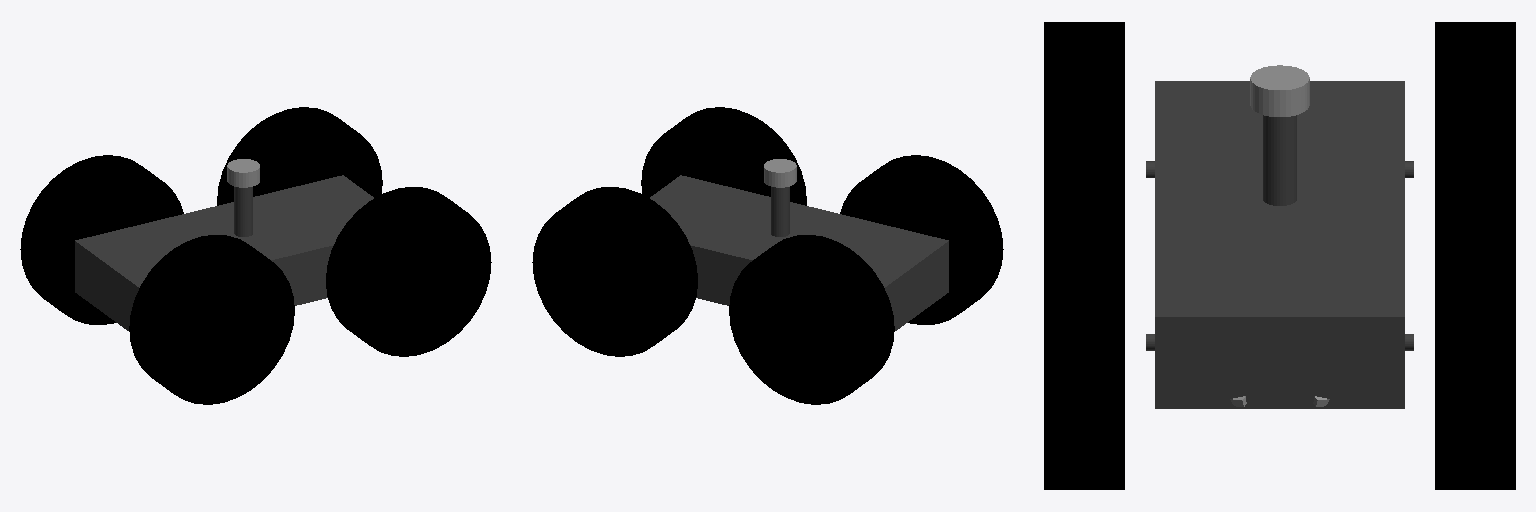
robot.urdf — robot:
<?xml version="1.0" ?>
<robot name="robot">

    <webots>
        <device reference="lidar" type="lidar">
            <ros>
                <enabled>true</enabled>
                <updateRate>10</updateRate>
                <topicName>/scan</topicName>
                <alwaysOn>true</alwaysOn>
                <frameName>lidar</frameName>
            </ros>
        </device>

        <plugin type="cibnor_sim.webots_robot_driver.RobotDriver"/>
    </webots>

    <!-- Colors -->
    <material name="light_gray">
        <color rgba="0.6 0.6 0.6 1.0"/>
    </material>

    <material name="gray">
        <color rgba="0.3 0.3 0.3 1.0"/>
    </material>

    <material name="black">
        <color rgba="0.0 0.0 0.0 1.0"/>
    </material>

    <!-- Robot body -->
    <link name="base_link">
        <visual>
            <geometry>
                <box size="0.656 0.294 0.12"/>
            </geometry>
            <material name="gray"/>
        </visual>
        <collision>
            <geometry>
                <box size="0.656 0.294 0.12"/>
            </geometry>
        </collision>
    </link>

    <!--Lidar-->
    <joint name="base_link_to_support_Lidar" type="fixed">
        <parent link="base_link"/>
        <child link="support_Lidar"/>
        <origin xyz="0 0 0.11" rpy="0 0 0"/>
    </joint>

    <link name="support_Lidar">
        <visual>
            <origin xyz="0 0 0" rpy="0 0 0"/>
            <geometry>
                <cylinder radius="0.02" length="0.15"/>
            </geometry>
            <material name="gray"/>
        </visual>
        <collision>
            <origin xyz="0 0 0" rpy="0 0 0"/>
            <geometry>
                <cylinder radius="0.02" length="0.15"/>
            </geometry>
        </collision>
    </link>

    <joint name="support_Lidar_to_lidar" type="fixed">
        <parent link="support_Lidar"/>
        <child link="lidar"/>
        <origin xyz="0 0 0.09" rpy="0 0 0"/>
    </joint>

    <link name="lidar">
        <visual>
            <origin xyz="0 0 0" rpy="0 0 0"/>
            <geometry>
                <cylinder radius="0.035" length="0.035"/>
            </geometry>
            <material name="light_gray"/>
        </visual>
        <collision>
            <origin xyz="0 0 0" rpy="0 0 0"/>
            <geometry>
                <cylinder radius="0.035" length="0.035"/>
            </geometry>
        </collision>
    </link>

    <!--Hinges-->
    <joint name="base_link_to_hinge_BL" type="fixed">
        <parent link="base_link"/>
        <child link="hinge_BL"/>
        <origin xyz="-0.21 0.13 0" rpy="1.5708006 0.0000019 -3.1415908"/>
    </joint>

    <link name="hinge_BL">
        <visual>
            <origin xyz="0 0 0" rpy="0 0 0"/>
            <geometry>
                <cylinder radius="0.01" length="0.055"/>
            </geometry>
            <material name="gray"/>
        </visual>
        <collision>
            <origin xyz="0 0 0" rpy="0 0 0"/>
            <geometry>
                <cylinder radius="0.01" length="0.055"/>
            </geometry>
        </collision>
    </link>

    <joint name="base_link_to_hinge_FL" type="fixed">
        <parent link="base_link"/>
        <child link="hinge_FL"/>
        <origin xyz="0.27 0.13 0" rpy="1.5708006 0.0000019 -3.1415908"/>
    </joint>

    <link name="hinge_FL">
        <visual>
            <origin xyz="0 0 0" rpy="0 0 0"/>
            <geometry>
                <cylinder radius="0.01" length="0.055"/>
            </geometry>
            <material name="gray"/>
        </visual>
        <collision>
            <origin xyz="0 0 0" rpy="0 0 0"/>
            <geometry>
                <cylinder radius="0.01" length="0.055"/>
            </geometry>
        </collision>
    </link>

    <joint name="base_link_to_hinge_BR" type="fixed">
        <parent link="base_link"/>
        <child link="hinge_BR"/>
        <origin xyz="-0.21 -0.13 0" rpy="1.5708006 0.0000019 -3.1415908"/>
    </joint>

    <link name="hinge_BR">
        <visual>
            <origin xyz="0 0 0" rpy="0 0 0"/>
            <geometry>
                <cylinder radius="0.01" length="0.055"/>
            </geometry>
            <material name="gray"/>
        </visual>
        <collision>
            <origin xyz="0 0 0" rpy="0 0 0"/>
            <geometry>
                <cylinder radius="0.01" length="0.055"/>
            </geometry>
        </collision>
    </link>

    <joint name="base_link_to_hinge_FR" type="fixed">
        <parent link="base_link"/>
        <child link="hinge_FR"/>
        <origin xyz="0.27 -0.13 0" rpy="1.5708006 0.0000019 -3.1415908"/>
    </joint>

    <link name="hinge_FR">
        <visual>
            <origin xyz="0 0 0" rpy="0 0 0"/>
            <geometry>
                <cylinder radius="0.01" length="0.055"/>
            </geometry>
            <material name="gray"/>
        </visual>
        <collision>
            <origin xyz="0 0 0" rpy="0 0 0"/>
            <geometry>
                <cylinder radius="0.01" length="0.055"/>
            </geometry>
        </collision>
    </link>

    <!-- Front-Right Wheel -->
    <joint name="motor_FR" type="continuous">
        <parent link="hinge_FR"/>
        <child link="wheel_FR"/>
        <axis xyz="0 0 -1"/>
        <limit effort="10" velocity="10"/>
        <origin xyz="0 0 -0.1" rpy="0 0 0"/>
    </joint>

    <link name="wheel_FR">
        <visual>
            <origin xyz="0 0 0" rpy="0 0 0"/>
            <geometry>
                <cylinder radius="0.175" length="0.095"/>
            </geometry>
            <material name="black"/>
        </visual>
        <collision>
            <origin xyz="0 0 0" rpy="0 0 0"/>
            <geometry>
                <cylinder radius="0.175" length="0.095"/>
            </geometry>
        </collision>
    </link>

    <!-- Back-Right Wheel -->
    <joint name="motor_BR" type="continuous">
        <parent link="hinge_BR"/>
        <child link="wheel_BR"/>
        <axis xyz="0 0 -1"/>
        <limit effort="10" velocity="10"/>
        <origin xyz="0 0 -0.1" rpy="0 0 0"/>
    </joint>

    <link name="wheel_BR">
        <visual>
            <origin xyz="0 0 0" rpy="0 0 0"/>
            <geometry>
                <cylinder radius="0.175" length="0.095"/>
            </geometry>
            <material name="black"/>
        </visual>
        <collision>
            <origin xyz="0 0 0" rpy="0 0 0"/>
            <geometry>
                <cylinder radius="0.175" length="0.095"/>
            </geometry>
        </collision>
    </link>

    <!-- Front-Left Wheel -->
    <joint name="motor_FL" type="continuous">
        <parent link="hinge_FL"/>
        <child link="wheel_FL"/>
        <axis xyz="0 0 1"/>
        <limit effort="10" velocity="10"/>
        <origin xyz="0 0 0.1" rpy="0 0 0"/>
    </joint>

    <link name="wheel_FL">
        <visual>
            <origin xyz="0 0 0" rpy="0 0 0"/>
            <geometry>
                <cylinder radius="0.175" length="0.095"/>
            </geometry>
            <material name="black"/>
        </visual>
        <collision>
            <origin xyz="0 0 0" rpy="0 0 0"/>
            <geometry>
                <cylinder radius="0.175" length="0.095"/>
            </geometry>
        </collision>
    </link>

    <!-- Back-Left Wheel -->
    <joint name="motor_BL" type="continuous">
        <parent link="hinge_BL"/>
        <child link="wheel_BL"/>
        <axis xyz="0 0 1"/>
        <limit effort="10" velocity="10"/>
        <origin xyz="0 0 0.1" rpy="0 0 0"/>
    </joint>

    <link name="wheel_BL">
        <visual>
            <origin xyz="0 0 0" rpy="0 0 0"/>
            <geometry>
                <cylinder radius="0.175" length="0.095"/>
            </geometry>
            <material name="black"/>
        </visual>
        <collision>
            <origin xyz="0 0 0" rpy="0 0 0"/>
            <geometry>
                <cylinder radius="0.175" length="0.095"/>
            </geometry>
        </collision>
    </link>

    <!-- Right sensor -->
    <joint name="base_link_to_ds_R" type="fixed">
        <parent link="base_link"/>
        <child link="ds_R"/>
        <origin xyz="0.326 -0.05 -0.05" rpy="0.1160253 0.2352153 -0.4637244"/>
    </joint>

    <link name="ds_R">
        <visual>
            <origin xyz="0 0 0" rpy="0 0 0"/>
            <geometry>
                <box size="0.01 0.02 0.01"/>
            </geometry>
            <material name="light_gray"/>
        </visual>
        <collision>
            <origin xyz="0 0 0" rpy="0 0 0"/>
            <geometry>
                <box size="0.01 0.02 0.01"/>
            </geometry>
        </collision>
        <sensor name="ds_sensor_R" type="ray">
            <origin xyz="0 0 0" rpy="0 0 0"/>
            <range>
                <min>0.05</min>
                <max>0.15</max>
                <resolution>0.001</resolution>
            </range>
            <noise>
                <type>gaussian</type>
                <mean>0</mean>
                <stddev>0.02</stddev>
            </noise>
        </sensor>
  </link>

  <!-- Left sensor -->
    <joint name="base_link_to_ds_L" type="fixed">
        <parent link="base_link"/>
        <child link="ds_L"/>
        <origin xyz="0.326 0.05 -0.05" rpy="-0.1160253 0.2352153 0.4637244"/>
    </joint>

    <link name="ds_L">
        <visual>
            <origin xyz="0 0 0" rpy="0 0 0"/>
            <geometry>
                <box size="0.01 0.02 0.01"/>
            </geometry>
            <material name="light_gray"/>
        </visual>
        <collision>
            <origin xyz="0 0 0" rpy="0 0 0"/>
            <geometry>
                <box size="0.01 0.02 0.01"/>
            </geometry>
        </collision>
        <sensor name="ds_sensor_L" type="ray">
            <origin xyz="0 0 0" rpy="0 0 0"/>
            <range>
                <min>0.05</min>
                <max>0.15</max>
                <resolution>0.001</resolution>
            </range>
            <noise>
                <type>gaussian</type>
                <mean>0</mean>
                <stddev>0.02</stddev>
            </noise>
        </sensor>
  </link>

</robot>

--- What the picture shows (computed from the rendered views, not written in the file) ---
Views: 3 orthographic renders of the robot side by side, from view 1: azimuth 30°, elevation 25°; view 2: azimuth 150°, elevation 25°; view 3: azimuth 270°, elevation 25°.
Model robot with 13 links and 12 joints (4 continuous, 8 fixed), rooted at base_link, posed all joints at 0.
Visible links, largest first — view 1: wheel_BR, wheel_FR, base_link, wheel_BL, wheel_FL, support_Lidar, lidar; view 2: wheel_BL, wheel_FL, base_link, wheel_BR, wheel_FR, support_Lidar, lidar; view 3: base_link, wheel_FR, wheel_FL, wheel_BR, wheel_BL, support_Lidar, lidar.
Link boxes in pixels (left/top/right/bottom): wheel_BR: left=129, top=235, right=294, bottom=404; wheel_FR: left=326, top=187, right=491, bottom=356; base_link: left=75, top=175, right=373, bottom=330; wheel_BL: left=20, top=155, right=183, bottom=324; wheel_FL: left=217, top=107, right=382, bottom=205; support_Lidar: left=234, top=187, right=252, bottom=236; lidar: left=227, top=159, right=259, bottom=187; wheel_BL: left=729, top=235, right=894, bottom=404; wheel_FL: left=532, top=187, right=697, bottom=356; base_link: left=650, top=175, right=948, bottom=330; wheel_BR: left=840, top=155, right=1003, bottom=324; wheel_FR: left=641, top=107, right=806, bottom=205; support_Lidar: left=771, top=187, right=789, bottom=236; lidar: left=764, top=159, right=796, bottom=187; base_link: left=1155, top=81, right=1404, bottom=408; wheel_FR: left=1044, top=194, right=1124, bottom=489; wheel_FL: left=1435, top=194, right=1515, bottom=489; wheel_BR: left=1044, top=22, right=1124, bottom=193; wheel_BL: left=1435, top=22, right=1515, bottom=193; support_Lidar: left=1263, top=115, right=1296, bottom=205; lidar: left=1250, top=65, right=1309, bottom=116.
Size in the robot's own frame: 0.83 by 0.555 by 0.3925 metres.
Geometry: primitives only (box / cylinder / sphere), no mesh files.
